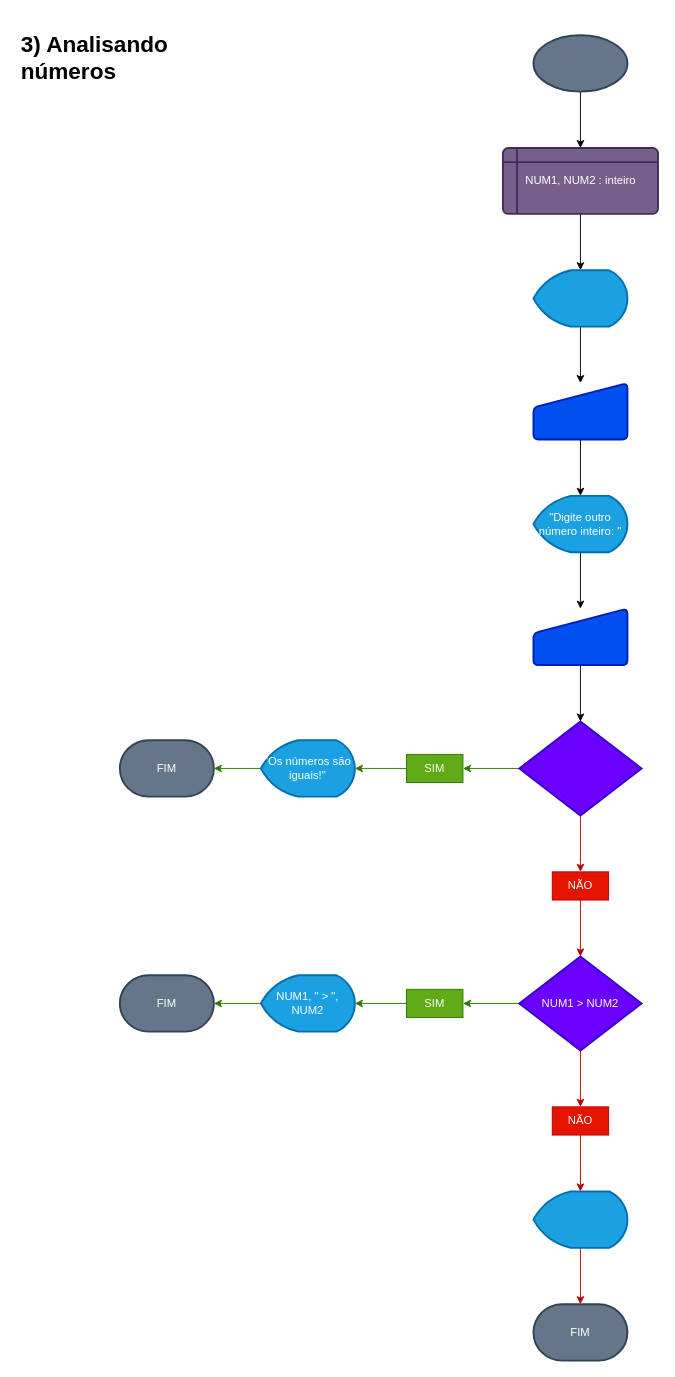
Some shapes in this 675 by 1377 pixel diagram are drawn without their labels. The centre of each missing label's shape, as x and y in pixels:
"Digite um número inteiro: ": point 580,298
INICIO: point 580,63
NUM1: point 580,411
NUM1 = NUM2: point 580,768
NUM1, " < ", NUM2: point 580,1219
NUM2: point 580,636
